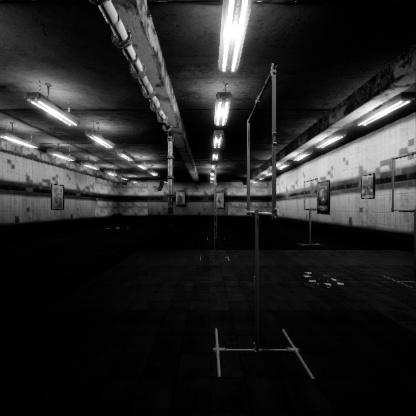gate: (251, 195, 283, 358), (392, 202, 416, 273), (304, 205, 319, 238), (215, 204, 217, 250), (216, 205, 217, 233)
